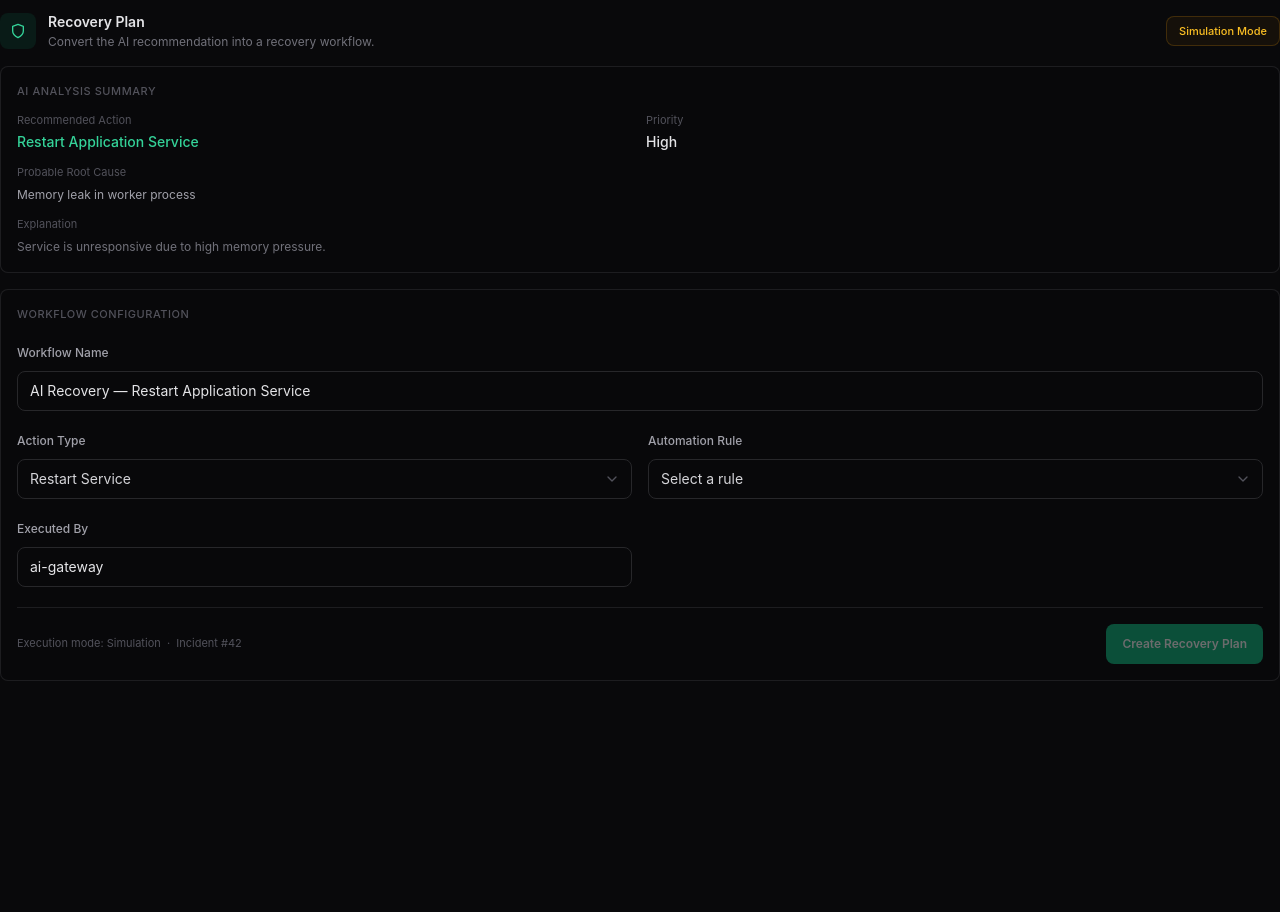
AIRecoveryPanel › shows an error message when workflow creation fails
Select "#1 — High CPU Rule" in the dropdown below "Automation Rule": (956, 478) [648,458,1263,498]
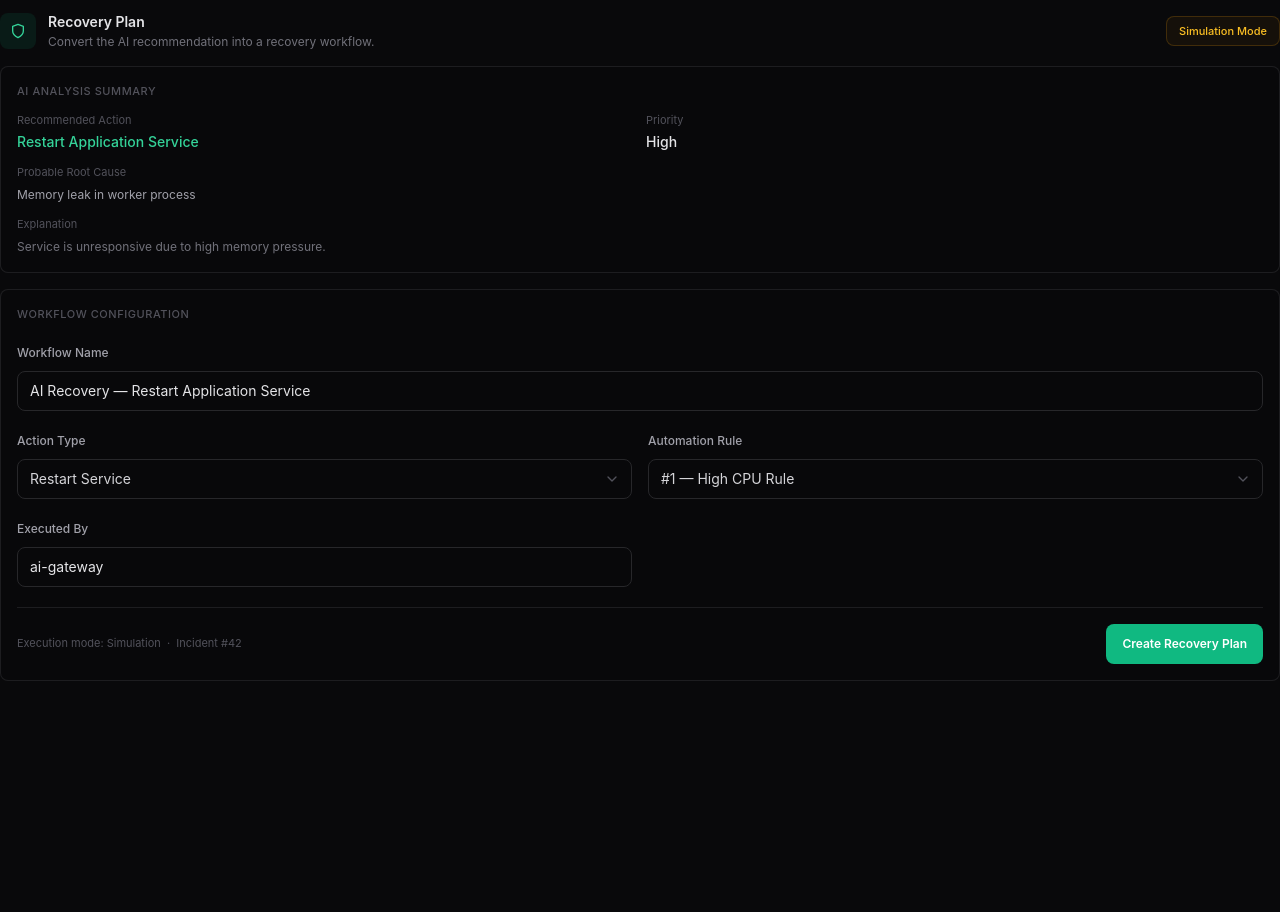
Click the button "Create Recovery Plan": (1185, 644) [1106,624,1263,664]
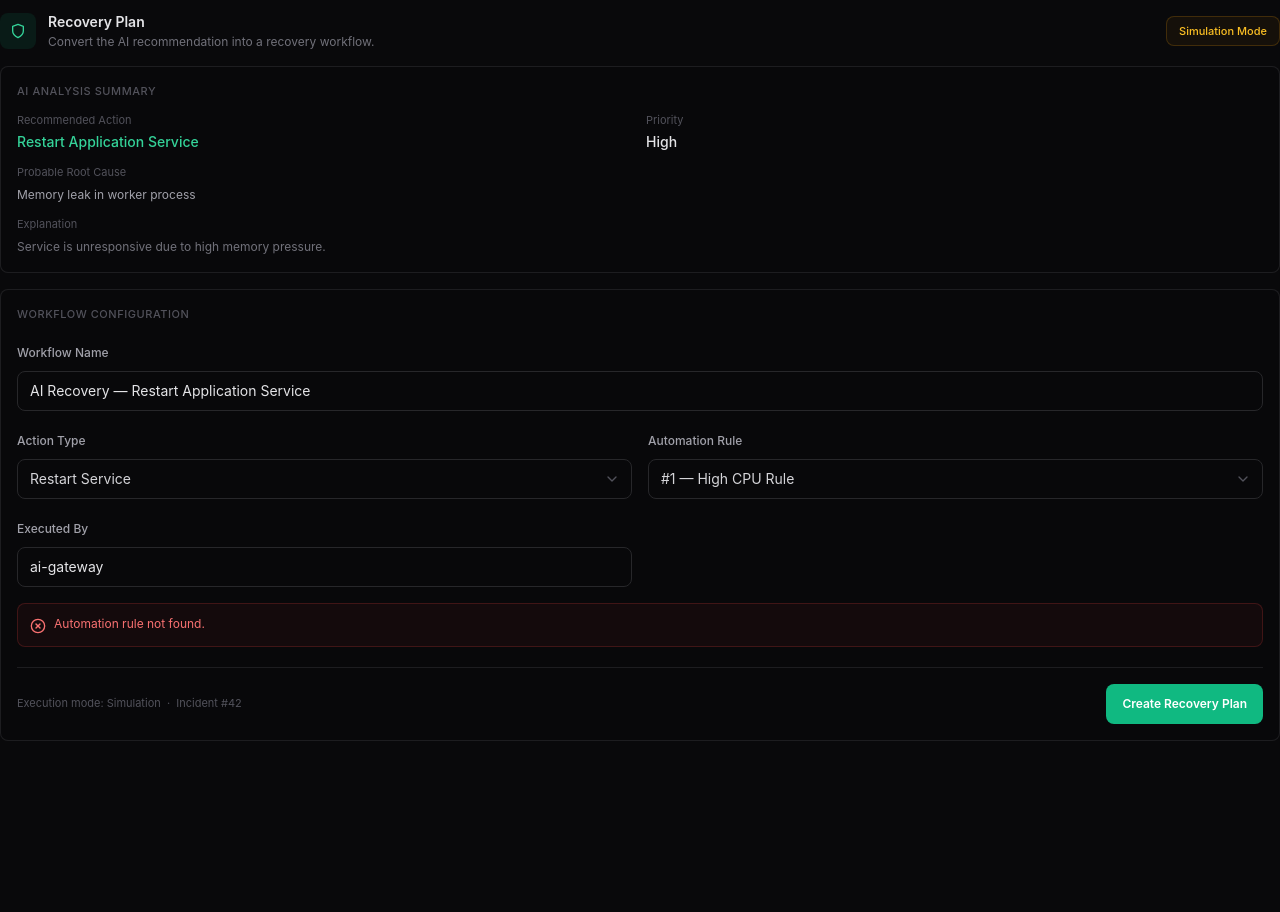
Now the text "Automation rule not found." is shown, box [54,616,205,632]
